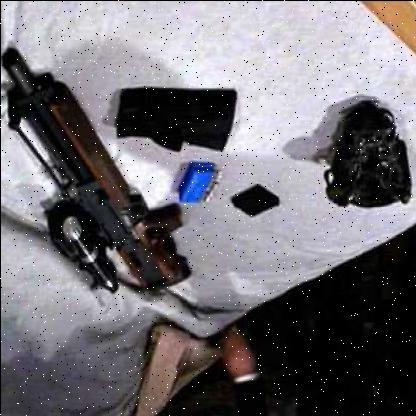rifle: (1, 52, 197, 302)
